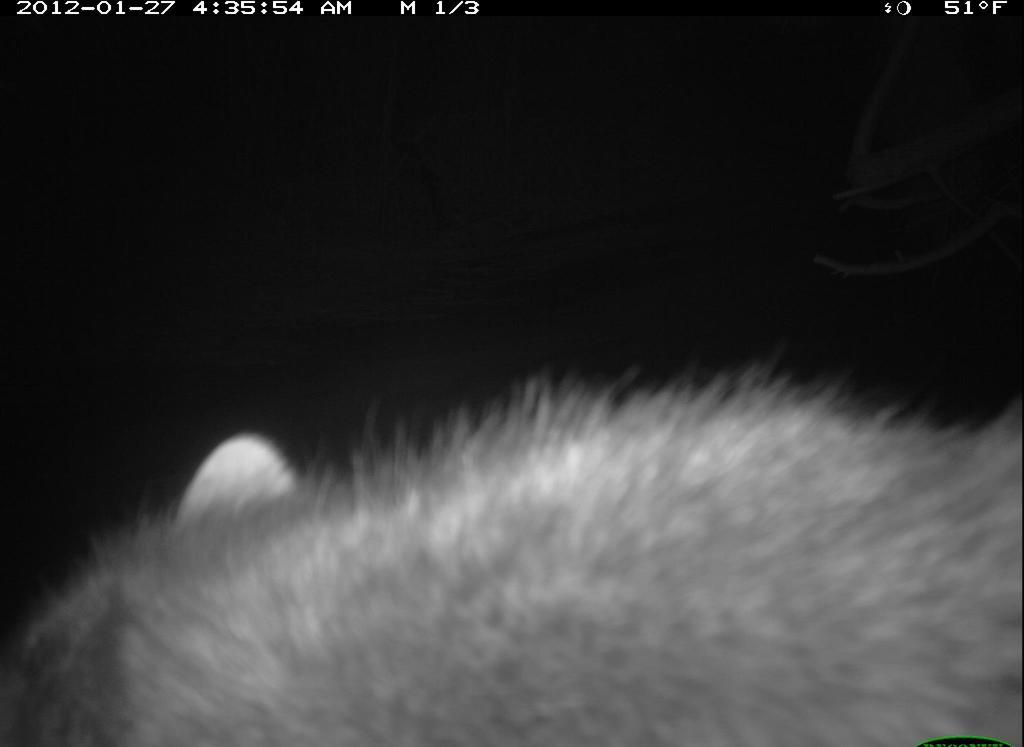raccoon: (6, 346, 1022, 747)
